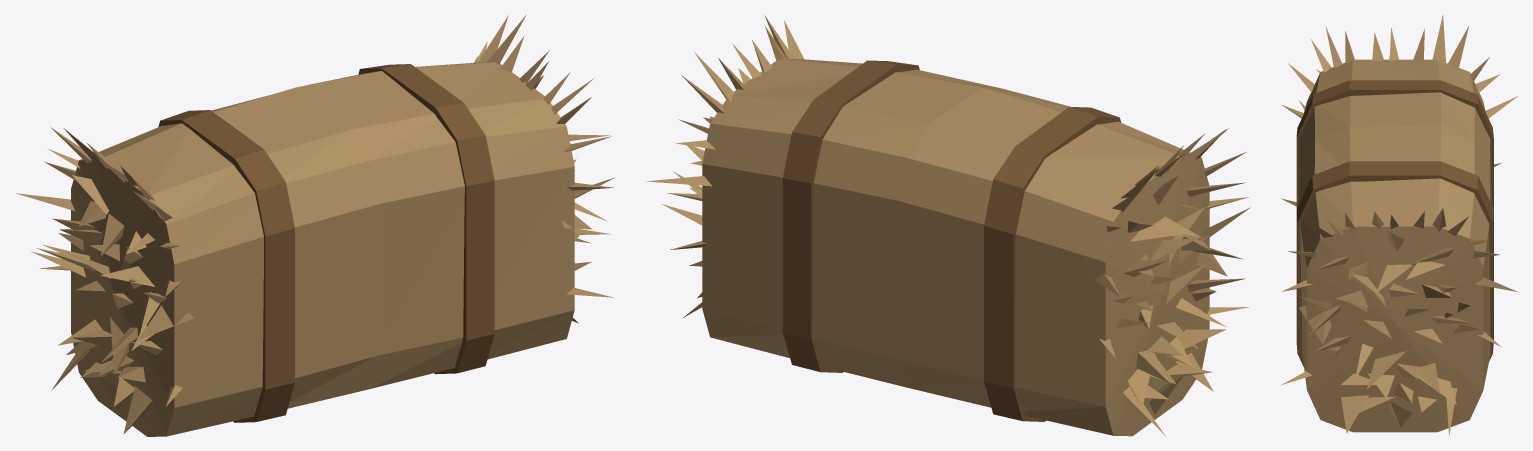
The model's file is hay-bale-079e8c.glb.
3 renders of one model, left to right at view 1: azimuth 30°, elevation 25°; view 2: azimuth 150°, elevation 25°; view 3: azimuth 270°, elevation 25°, orthographic. The views are drawn at different scales.
Parts seen in each view (by area): view 1: hay-bale-block; view 2: hay-bale-block; view 3: hay-bale-block.
Boxes of the visible parts, x1,y1,x2,y2 form: hay-bale-block: [16, 15, 615, 436]; hay-bale-block: [646, 15, 1250, 436]; hay-bale-block: [1280, 15, 1517, 435].
Size of the model in its own units: 0.9405 by 0.5155 by 0.4599.
